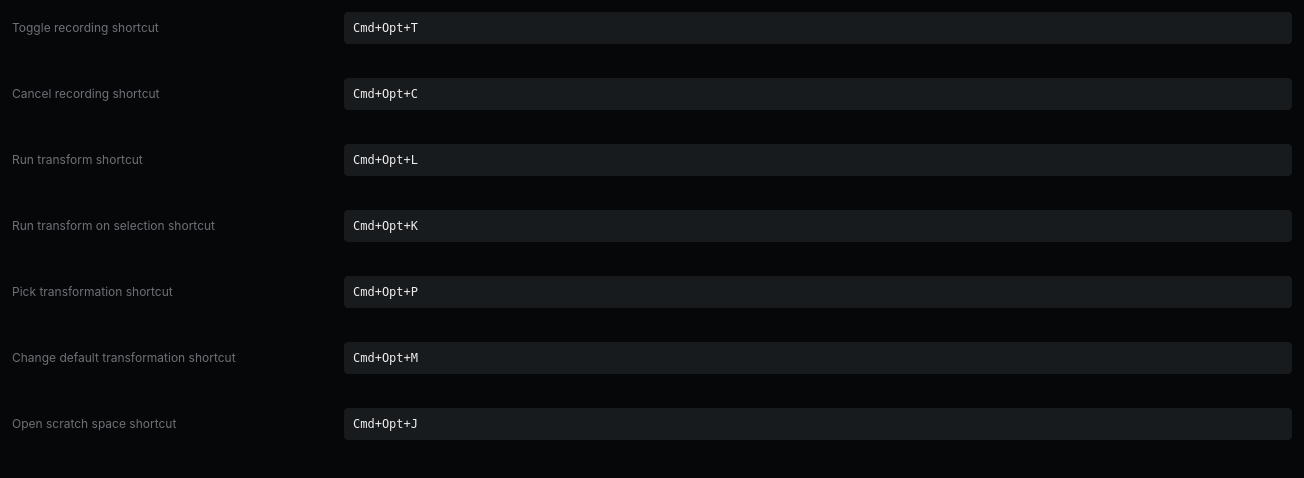
Scenario: SettingsShortcutEditorReact › captures Option-modified letter shortcuts using semantic base key labels
Step 1. Click the field with id "settings-shortcut-run-transform" → [818, 160], box [344,144,1292,176]
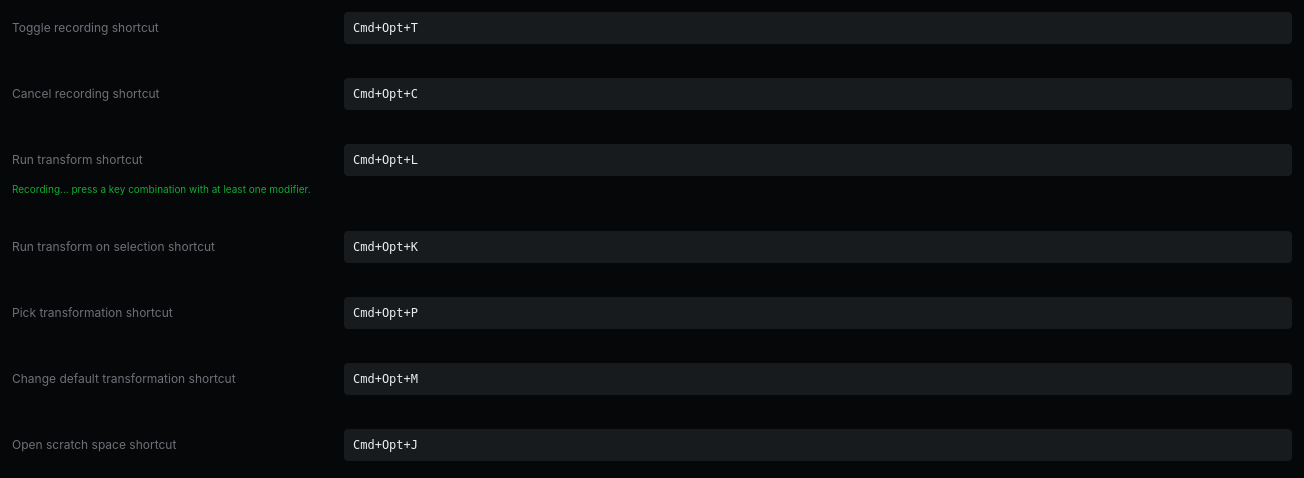
Step 2. Press π in the field with id "settings-shortcut-run-transform", box [344,144,1292,176]
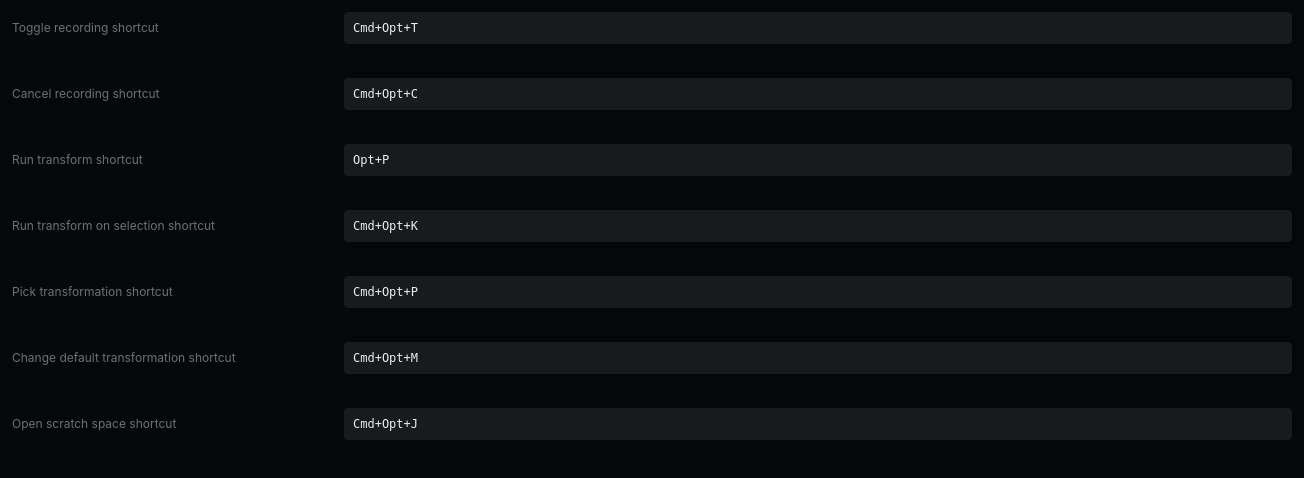
Expected: the field with id "settings-shortcut-run-transform" holds "Opt+P", [344,144,1292,176]
